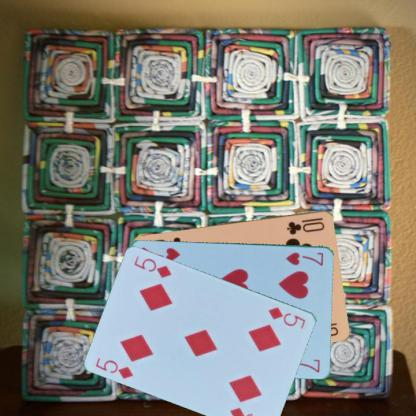10c: (284, 214, 326, 236)
5d: (266, 304, 307, 330), (93, 355, 135, 380)
7h: (283, 249, 325, 267)
